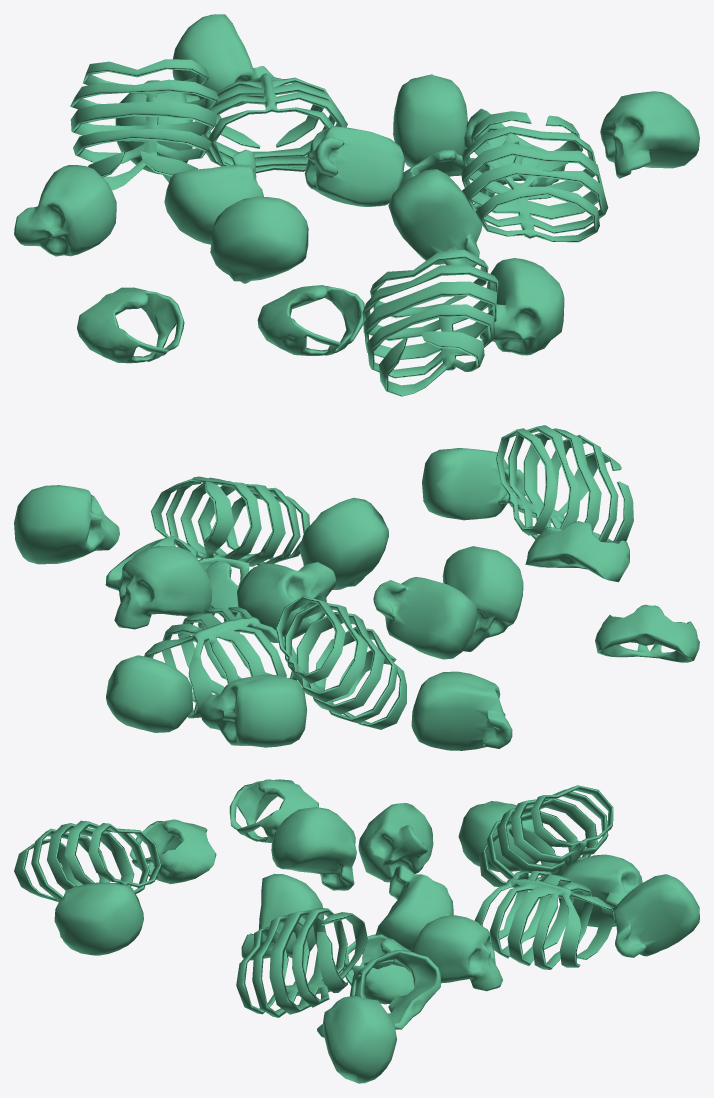
Rendered from Bones_Pile_02_Lod1.fbx.
3 renders of one model, top to bottom at view 1: azimuth 30°, elevation 25°; view 2: azimuth 150°, elevation 25°; view 3: azimuth 270°, elevation 25°, orthographic. The views are drawn at different scales.
Parts seen in each view (by area): view 1: Bones_Pile_02_Lod1; view 2: Bones_Pile_02_Lod1; view 3: Bones_Pile_02_Lod1.
Part boxes in pixels (left/top/right/bottom): Bones_Pile_02_Lod1: left=14, top=14, right=699, bottom=396; Bones_Pile_02_Lod1: left=14, top=425, right=699, bottom=750; Bones_Pile_02_Lod1: left=14, top=779, right=699, bottom=1083.
Size of the model in its own units: 137 by 28.04 by 140.
